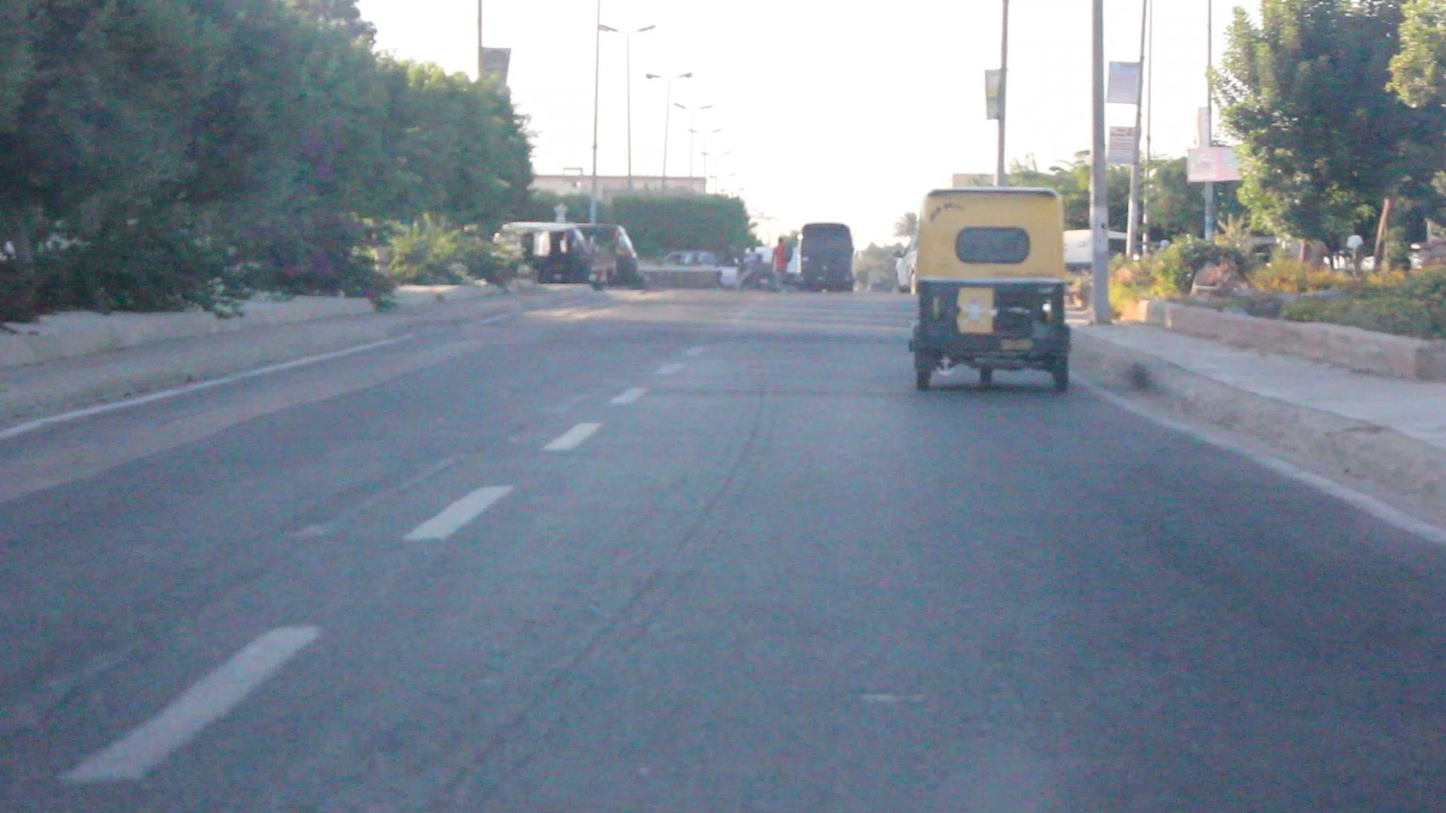Bump: (391, 313, 911, 345)
